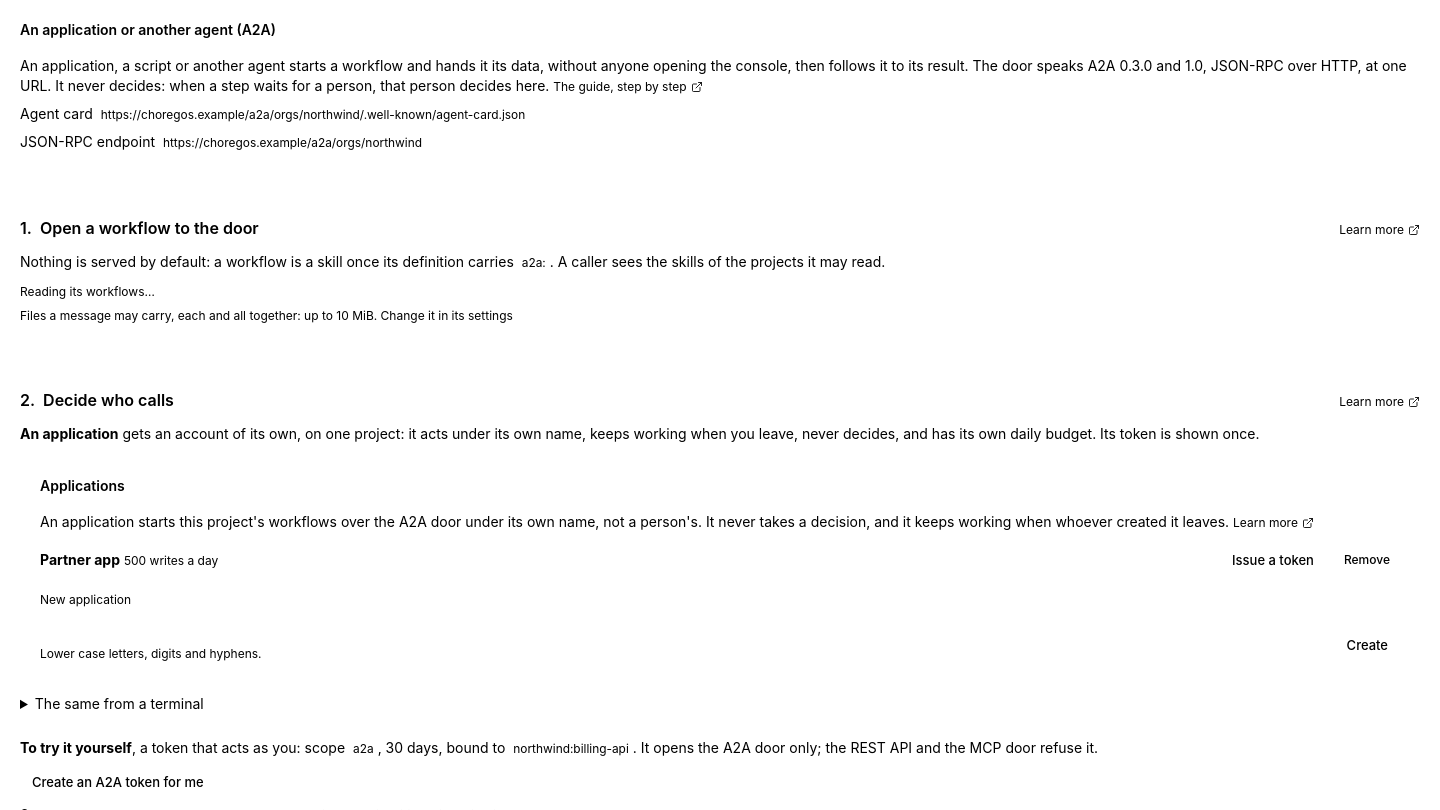
Test: Integrations › An application or another agent (A2A), S62-11 › step 2: the personal token is of the a2a scope only, bound to the project, and shown once
Click the button "Create an A2A token for me" at (118,782), box [20, 766, 216, 798]
(page scrolled)
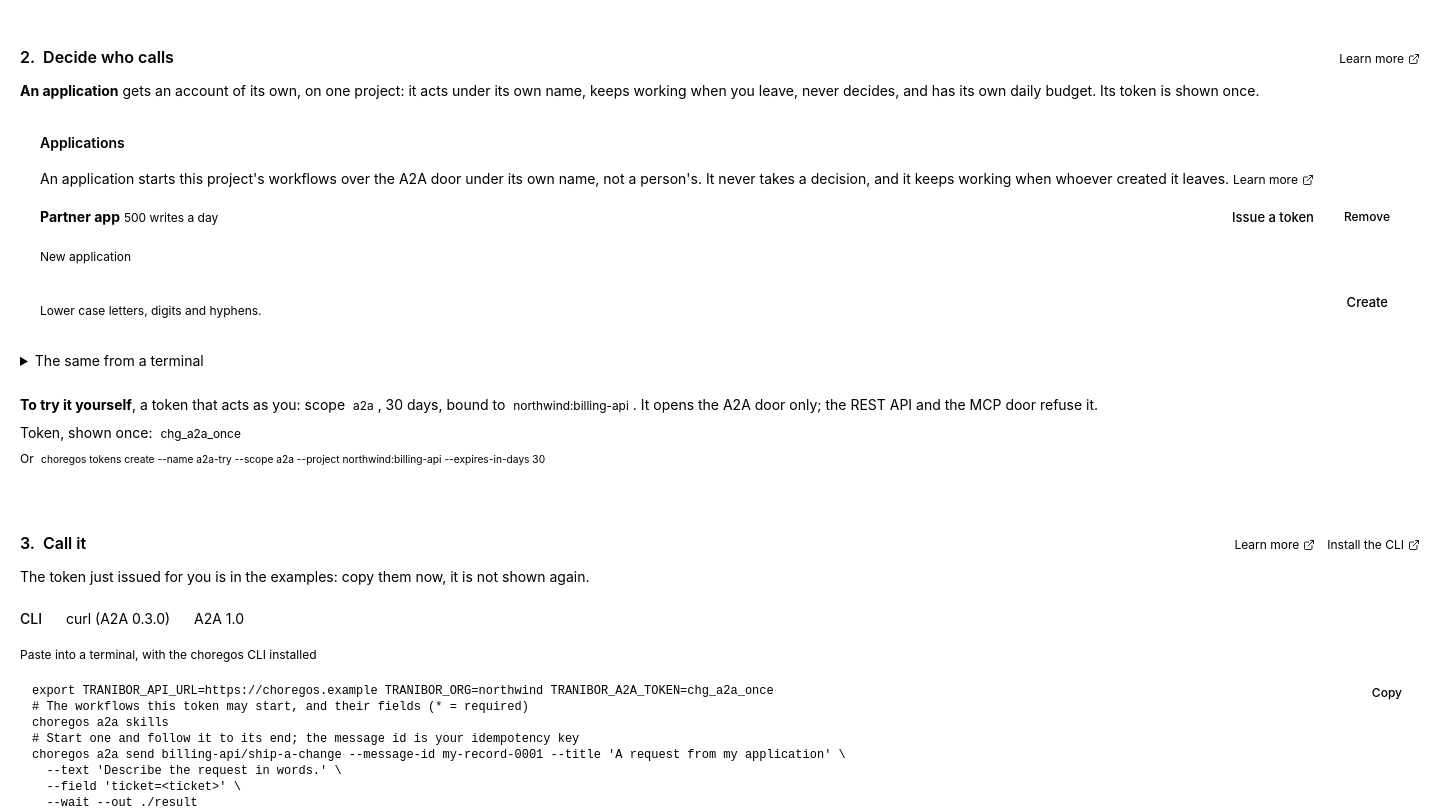
Expected: the text "northwind:billing-api" is shown, [509, 396, 633, 415]
Expected: the text with test id "a2a-token" reads "chg_a2a_once", [160, 426, 241, 441]
Expected: the button "Create an A2A token for me" is gone
